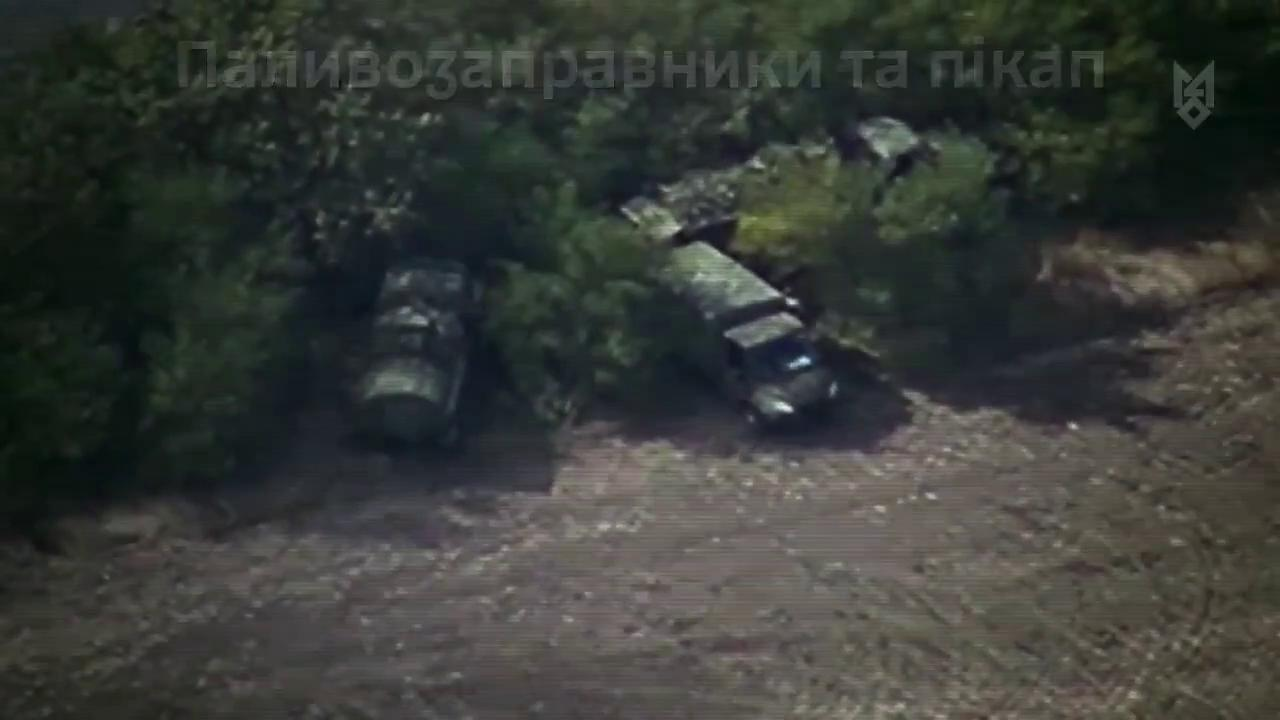tank: (611, 108, 979, 242), (649, 244, 845, 459), (347, 259, 474, 456)
